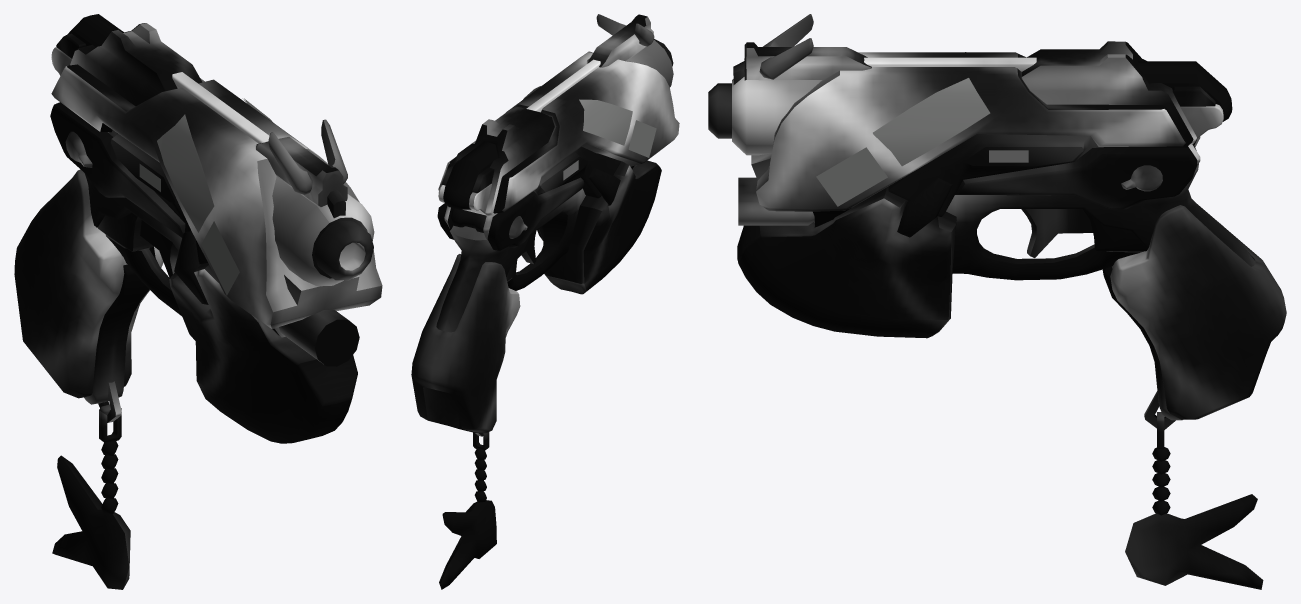
Rendered from gun.obj.
The picture shows the model from 3 angles, left to right: view 1: azimuth 30°, elevation 25°; view 2: azimuth 150°, elevation 25°; view 3: azimuth 270°, elevation 25°; orthographic projection. The views are drawn at different scales.
Parts seen in each view (by area): view 1: Submesh_0, Submesh_2; view 2: Submesh_0, Submesh_2; view 3: Submesh_0, Submesh_2.
Part boxes in pixels (bbox=[...]): Submesh_0: bbox=[14, 14, 382, 589]; Submesh_2: bbox=[139, 98, 272, 295]; Submesh_0: bbox=[411, 14, 679, 589]; Submesh_2: bbox=[523, 86, 656, 180]; Submesh_0: bbox=[708, 14, 1286, 589]; Submesh_2: bbox=[816, 78, 1028, 206].
Size of the model in its own units: 0.0505 by 0.251 by 0.2336.
